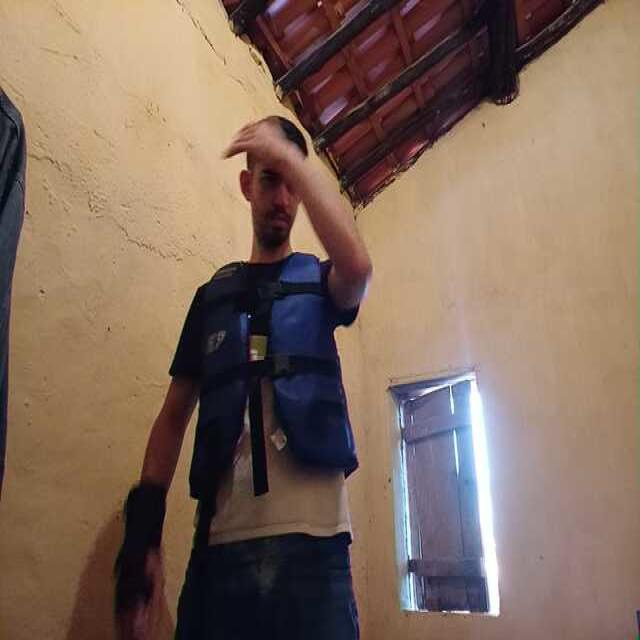colete: (176, 252, 358, 491)
pessoa: (132, 113, 380, 640)
